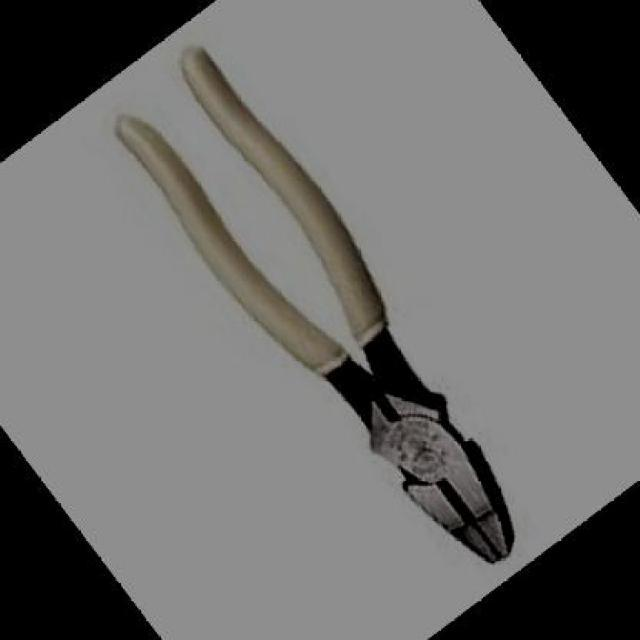pliers: (78, 12, 591, 608)
